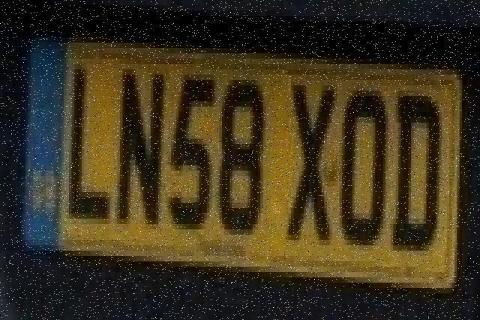LicensePlate: (11, 13, 467, 307)
